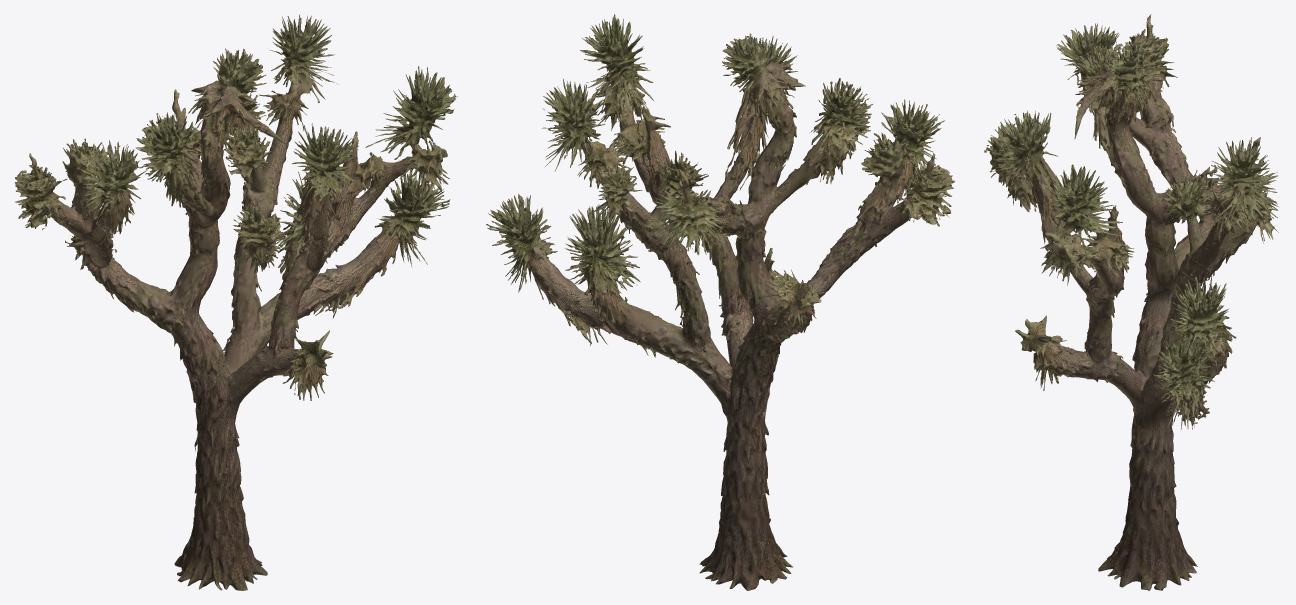
File: JoshuaTree_1_Optimized.glb
3 renders of one model, left to right at view 1: azimuth 30°, elevation 25°; view 2: azimuth 150°, elevation 25°; view 3: azimuth 270°, elevation 25°, orthographic.
Parts seen in each view (by area): view 1: mesh_node; view 2: mesh_node; view 3: mesh_node.
Boxes of the visible parts, box(x1,y1,x2,y2) form: mesh_node: box(14, 14, 457, 590); mesh_node: box(486, 14, 955, 590); mesh_node: box(984, 14, 1278, 590).
Size of the model in its own units: 1.69 by 1.9 by 0.9706.
Materials: 1 (1 with a texture image).
